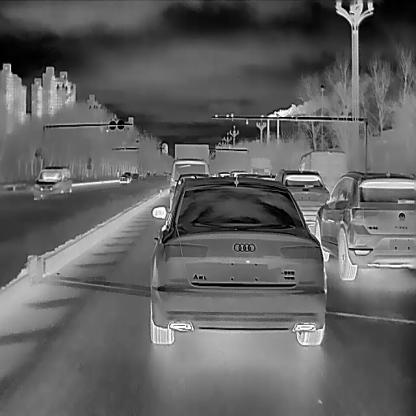car: (147, 177, 328, 344), (316, 172, 416, 280), (272, 168, 328, 228), (298, 148, 348, 199), (169, 156, 209, 214), (34, 165, 70, 201), (119, 174, 128, 184)
truck: (246, 155, 271, 184)
